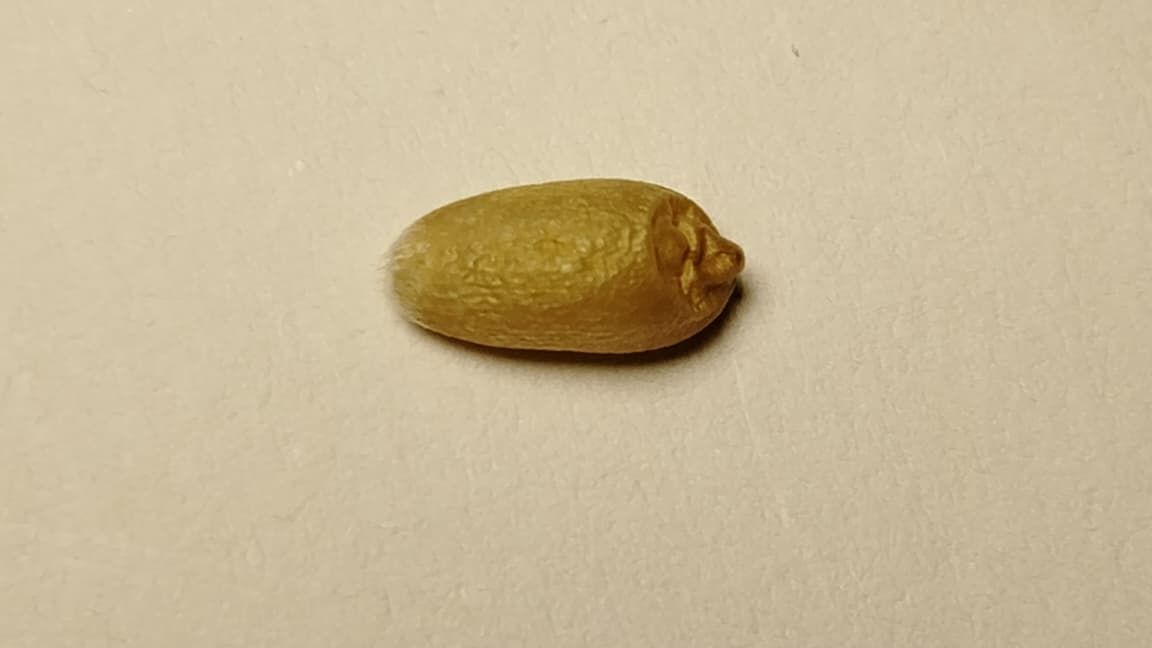healthy: (388, 178, 744, 353)
